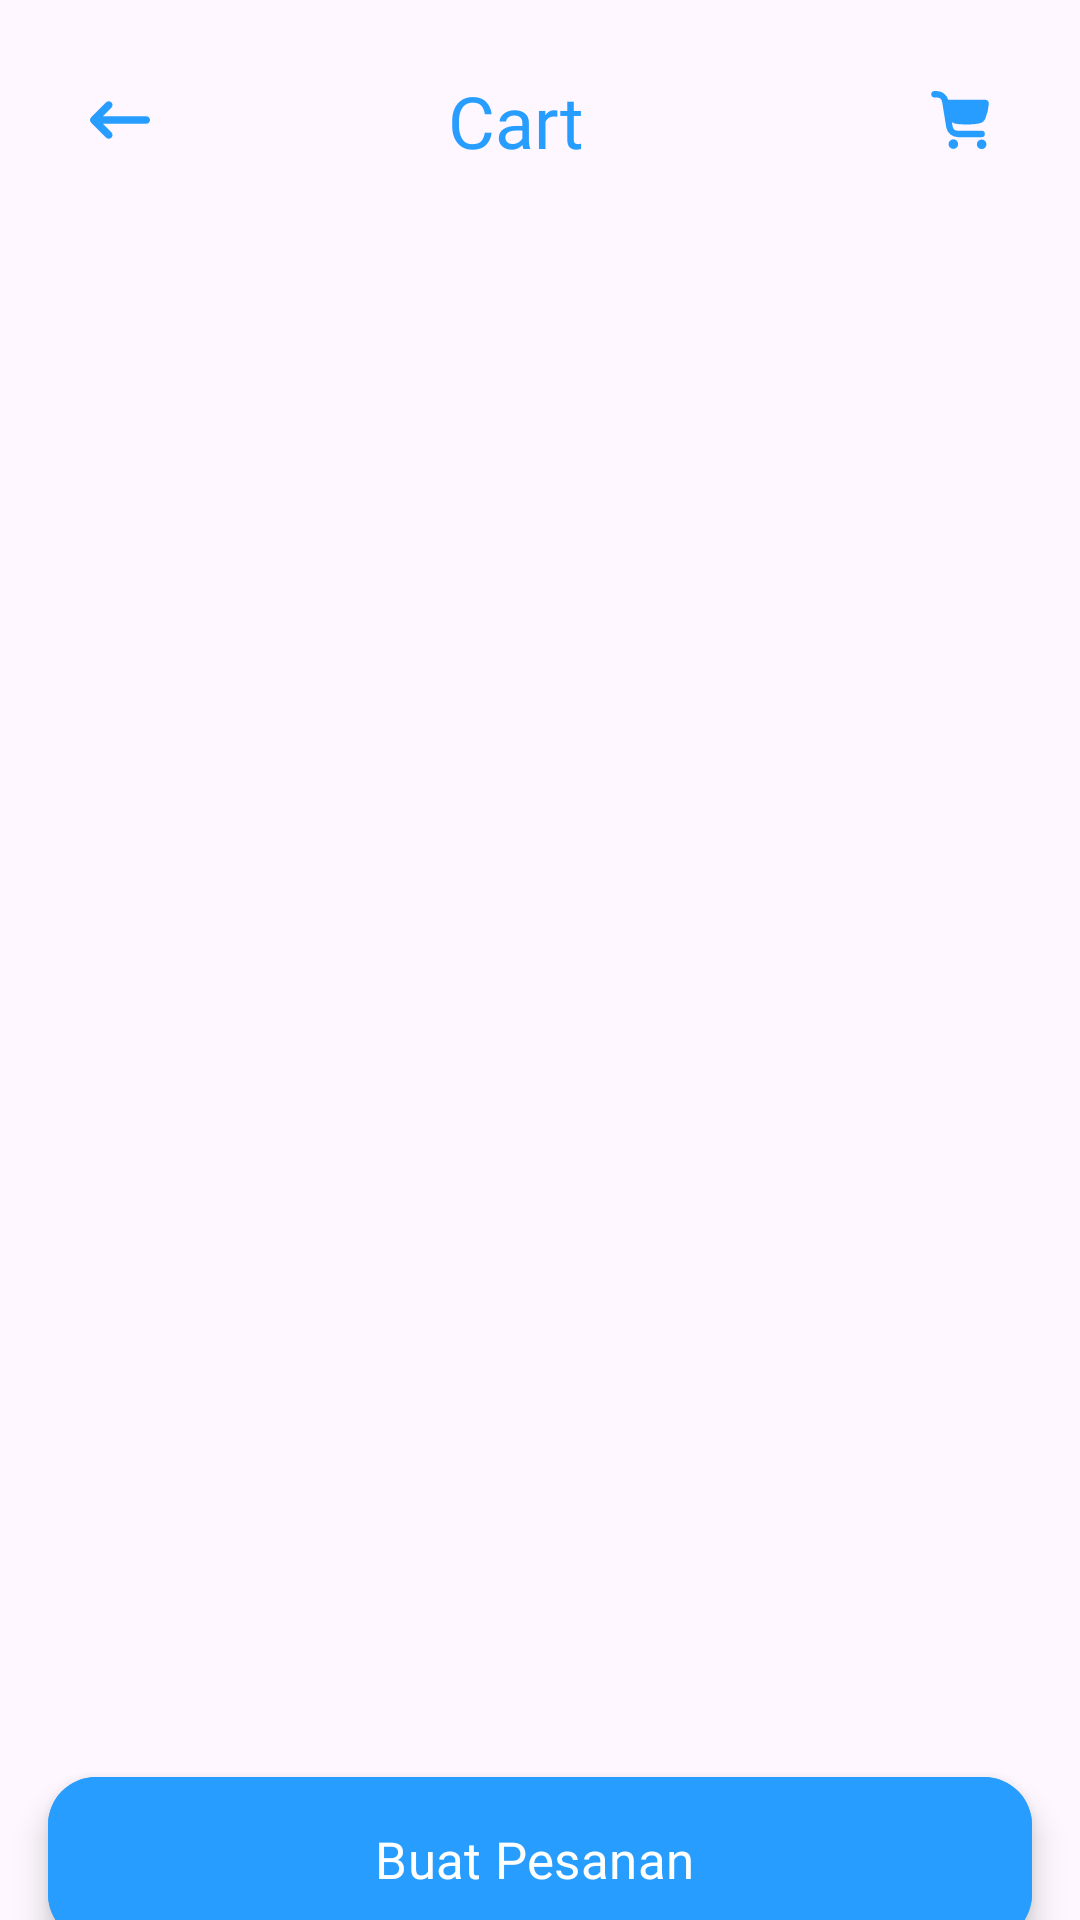

Locate icon controls on the screen. Image size 1080 × 1920, boxes as (x1, y1, x2, y2).
Button Back: (90, 101, 150, 139)
shopping cart: (931, 91, 989, 149)
